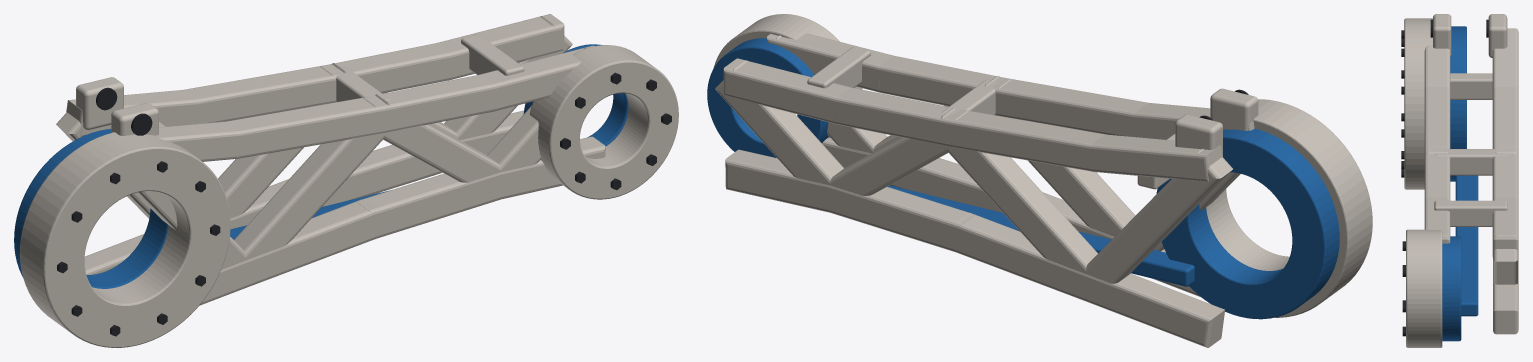
File: anatomy-07.glb
3 views of the same model, side by side, from view 1: azimuth 30°, elevation 25°; view 2: azimuth 150°, elevation 25°; view 3: azimuth 270°, elevation 25° (orthographic). The views are drawn at different scales.
Visible parts, largest first — view 1: rails, large, braces, small, sleeves, clevis, bolts; view 2: rails, braces, sleeves, large, clevis, channel, small; view 3: rails, braces, small, large, sleeves, channel, clevis, bolts.
Boxes of the visible parts, box(x1,y1,x2,y2) form: rails: box(66, 14, 605, 305); large: box(20, 132, 230, 347); braces: box(56, 16, 585, 269); small: box(529, 45, 678, 199); sleeves: box(14, 44, 628, 288); clevis: box(76, 77, 158, 135); bolts: box(57, 72, 671, 336); rails: box(723, 33, 1254, 347); braces: box(715, 35, 1240, 283); sleeves: box(707, 38, 1339, 319); large: box(1206, 99, 1372, 317); clevis: box(1175, 88, 1258, 154); channel: box(887, 185, 1194, 286); small: box(713, 14, 862, 137); rails: box(1424, 28, 1518, 334); braces: box(1426, 33, 1517, 284); small: box(1406, 229, 1442, 347); large: box(1404, 18, 1432, 189); sleeves: box(1442, 26, 1466, 341); channel: box(1455, 175, 1478, 316); clevis: box(1430, 14, 1507, 57); bolts: box(1401, 30, 1405, 336).
Size of the model in its own units: 2.82 by 0.906 by 0.5686.
